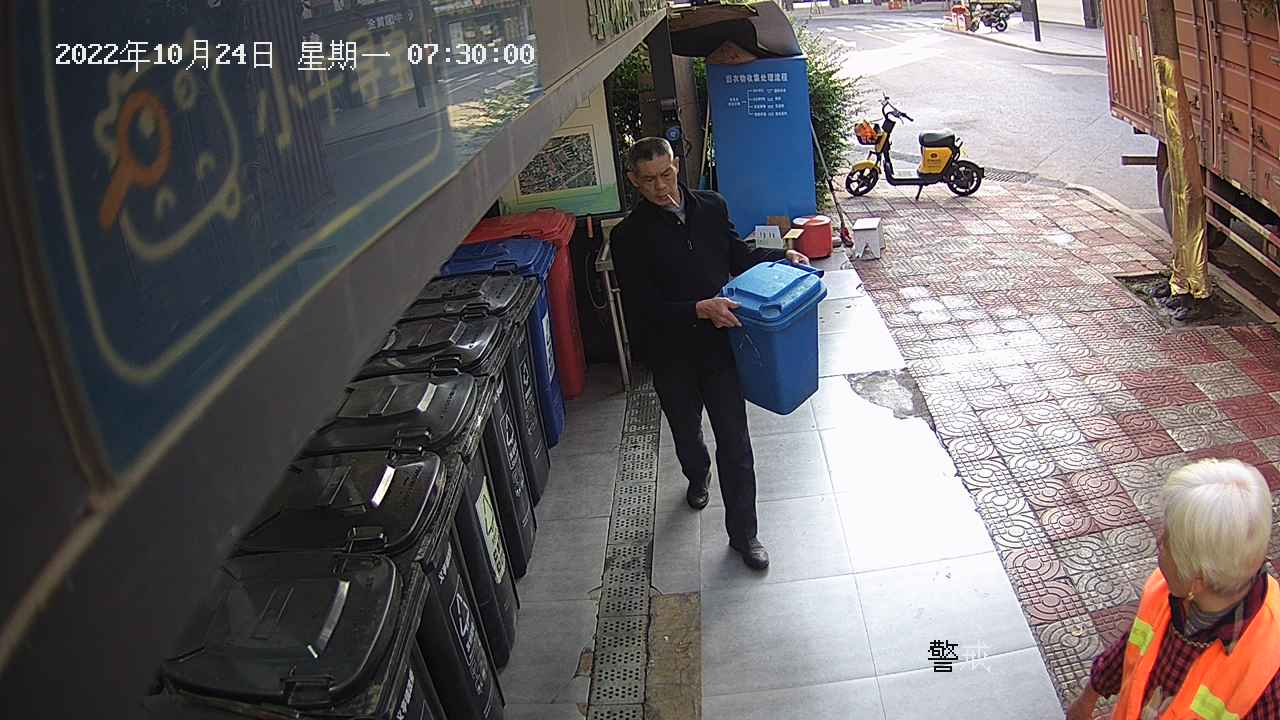person: (603, 132, 813, 579)
worker: (1063, 448, 1280, 720)
